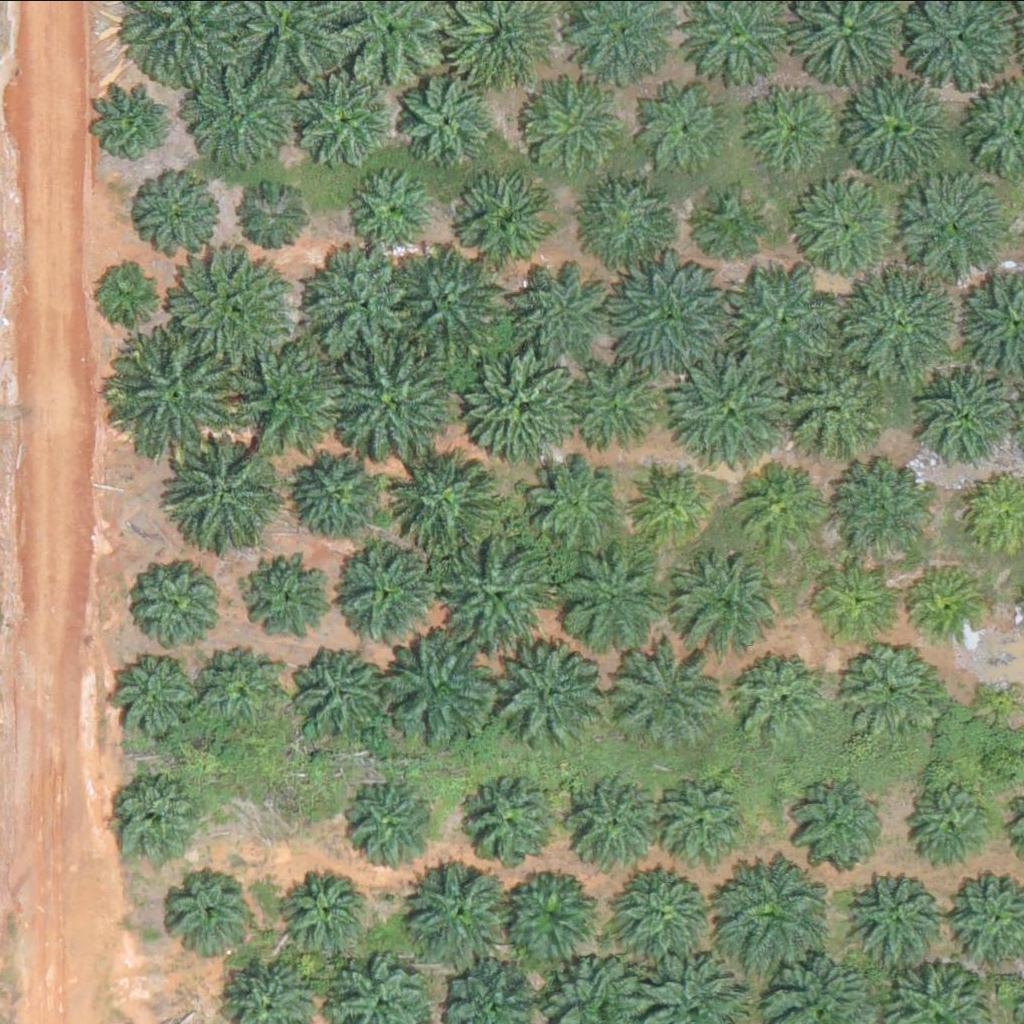Kelapa_Sawit: (120, 330, 246, 455), (840, 71, 954, 184), (175, 242, 289, 355), (388, 446, 502, 559), (180, 53, 293, 166), (795, 166, 908, 279), (844, 264, 957, 377), (610, 260, 723, 373), (238, 339, 351, 452), (339, 348, 452, 461), (459, 351, 572, 464), (519, 453, 632, 566), (713, 854, 826, 967), (677, 344, 791, 456), (553, 542, 667, 654), (669, 545, 783, 657), (385, 636, 499, 748), (901, 170, 1015, 282), (728, 262, 841, 374), (390, 243, 503, 355), (303, 248, 416, 360), (444, 537, 557, 649), (401, 861, 514, 973), (497, 257, 598, 357), (281, 437, 382, 537), (125, 553, 226, 653), (617, 653, 718, 753), (345, 777, 446, 877), (566, 772, 667, 872), (655, 771, 756, 871), (607, 862, 708, 962), (499, 870, 600, 970), (459, 168, 559, 268), (780, 353, 880, 453), (179, 442, 279, 542), (335, 540, 435, 640), (837, 644, 937, 744), (504, 649, 604, 749), (288, 644, 388, 744), (460, 768, 560, 868), (137, 170, 226, 258), (840, 466, 929, 554), (627, 459, 715, 547), (749, 83, 837, 171), (295, 79, 383, 167), (349, 169, 437, 257), (573, 370, 661, 458), (739, 467, 827, 555), (241, 558, 329, 646), (735, 656, 823, 744), (110, 776, 198, 864), (849, 872, 937, 960), (281, 873, 369, 961), (900, 556, 988, 644), (901, 776, 990, 863), (91, 79, 179, 166), (525, 77, 613, 164), (399, 78, 487, 165), (580, 176, 668, 263), (815, 555, 903, 642), (196, 639, 284, 726), (113, 651, 201, 738), (794, 780, 882, 867), (170, 864, 258, 951), (922, 370, 1010, 457), (242, 181, 318, 256), (651, 86, 727, 161), (94, 259, 157, 322), (699, 191, 762, 254)
